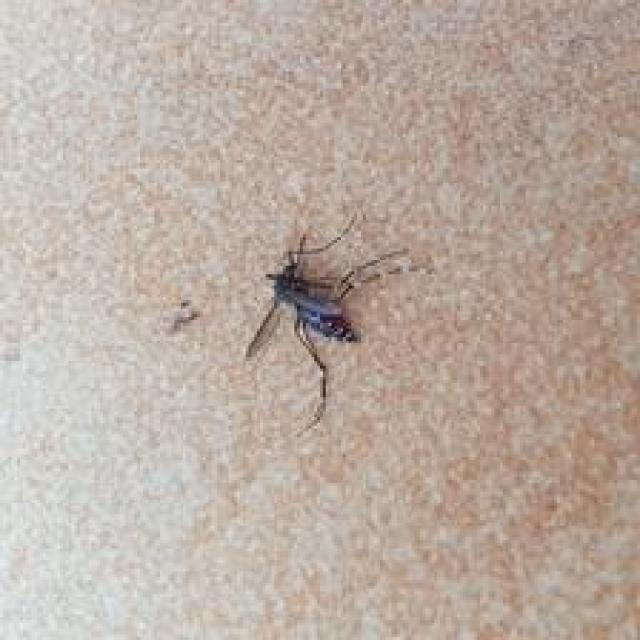Aedes albopictus: (241, 209, 430, 437)
